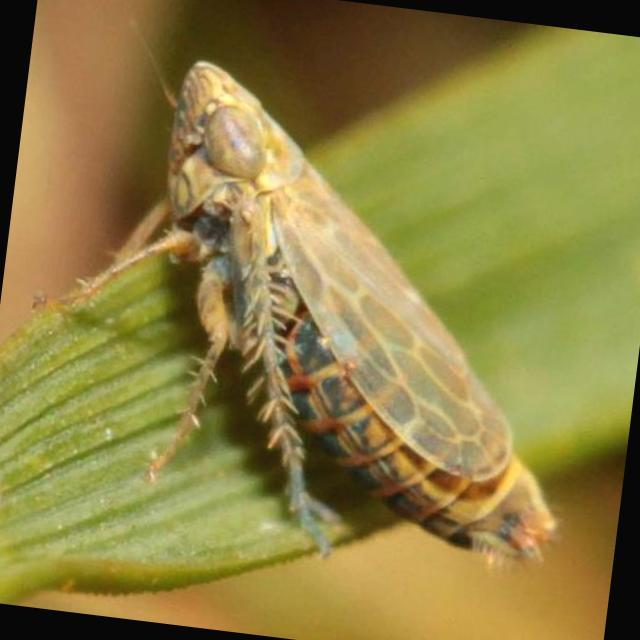green leaf hopper: (86, 62, 554, 555)
